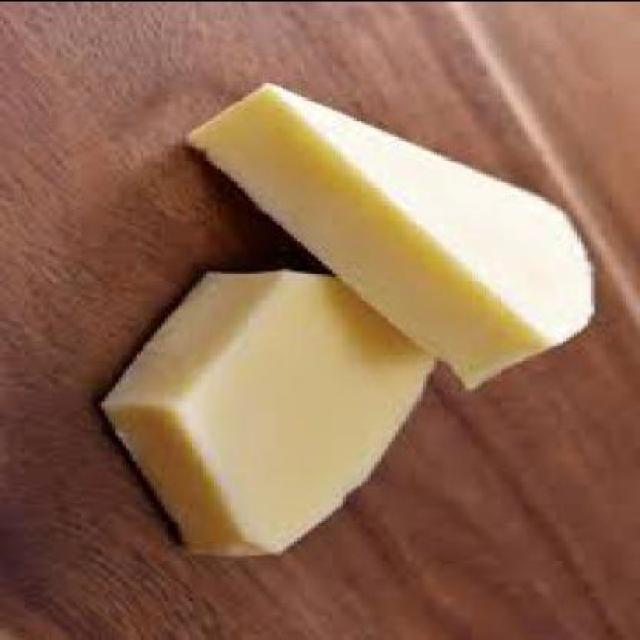BIODEGRADABLE: (190, 84, 594, 388), (101, 270, 435, 554)
